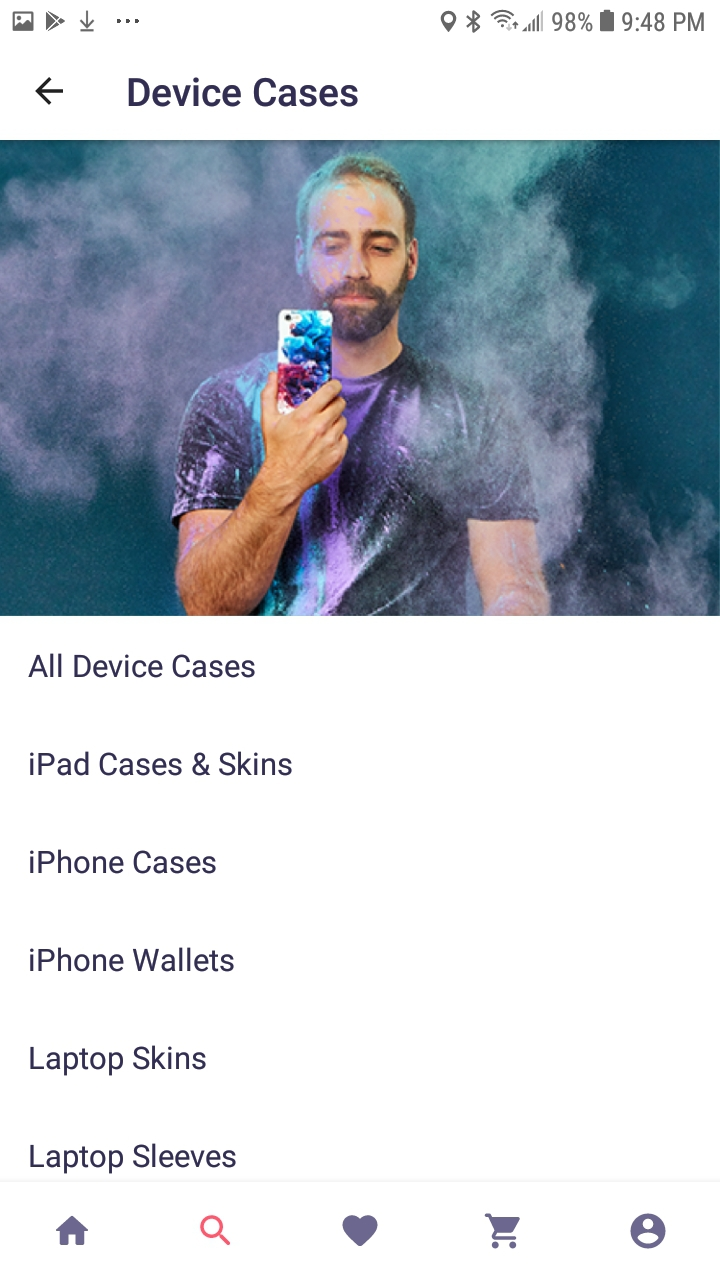Icon: (629, 1213, 666, 1249), (485, 1212, 521, 1249), (342, 1215, 378, 1247), (200, 1214, 231, 1246), (56, 1216, 89, 1246), (36, 77, 65, 106)
Image: (1, 141, 720, 617)
Text: (128, 77, 359, 108), (30, 751, 293, 777), (30, 1142, 237, 1174), (28, 653, 257, 680), (30, 1045, 207, 1077), (31, 947, 236, 973), (30, 849, 217, 875)
UpperTaskBar: (1, 1, 720, 34)
